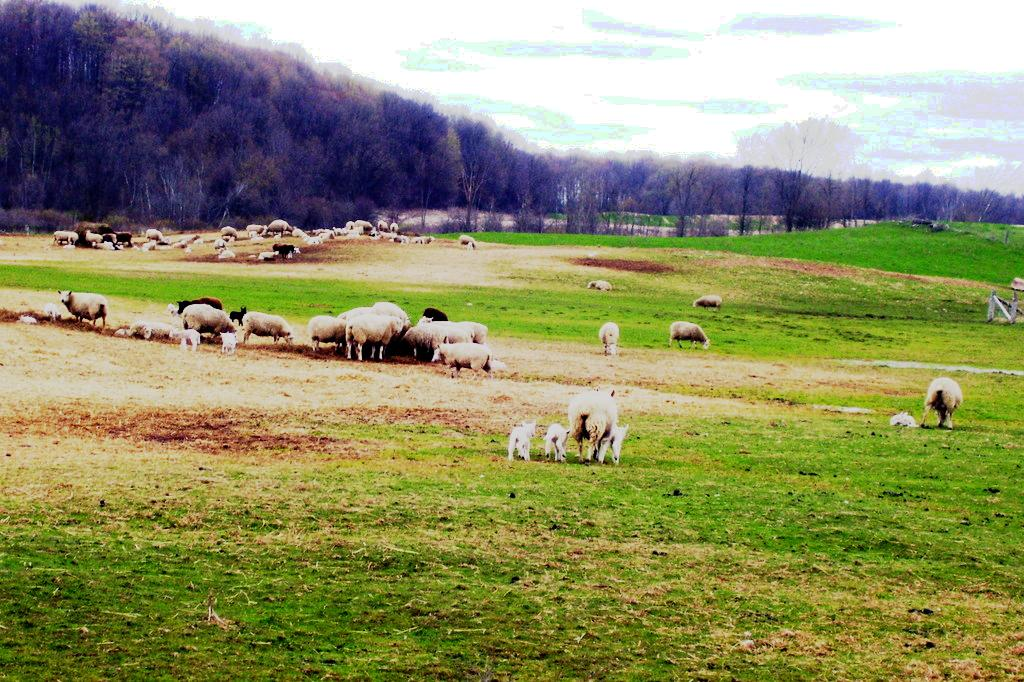Sheep: (570, 383, 616, 464), (341, 312, 402, 361), (430, 341, 495, 382), (922, 377, 960, 432), (240, 311, 298, 347), (305, 314, 357, 354), (58, 289, 109, 327), (181, 304, 236, 339), (416, 316, 474, 345), (403, 325, 449, 361), (668, 320, 713, 350), (509, 420, 538, 464), (600, 423, 630, 461), (543, 424, 569, 466), (133, 317, 169, 341), (169, 326, 200, 352), (885, 409, 920, 432), (600, 320, 620, 354), (693, 295, 725, 311), (216, 333, 240, 353), (586, 278, 613, 294), (265, 220, 289, 237), (459, 233, 478, 250), (146, 228, 166, 244), (246, 223, 267, 238), (85, 229, 102, 245), (258, 248, 279, 259), (219, 227, 238, 239), (173, 239, 189, 250), (214, 239, 228, 251), (142, 241, 158, 251), (377, 219, 387, 233), (390, 222, 399, 233), (466, 241, 474, 251)
